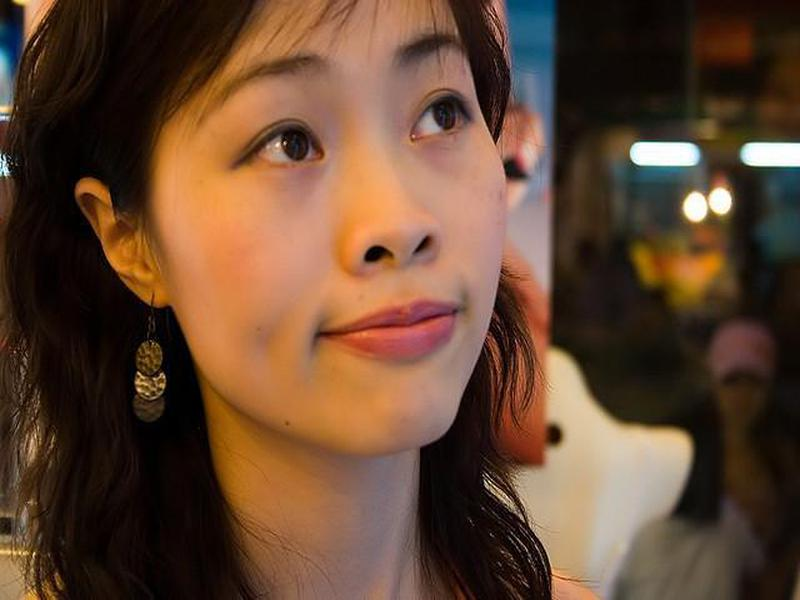person: (2, 2, 603, 598)
